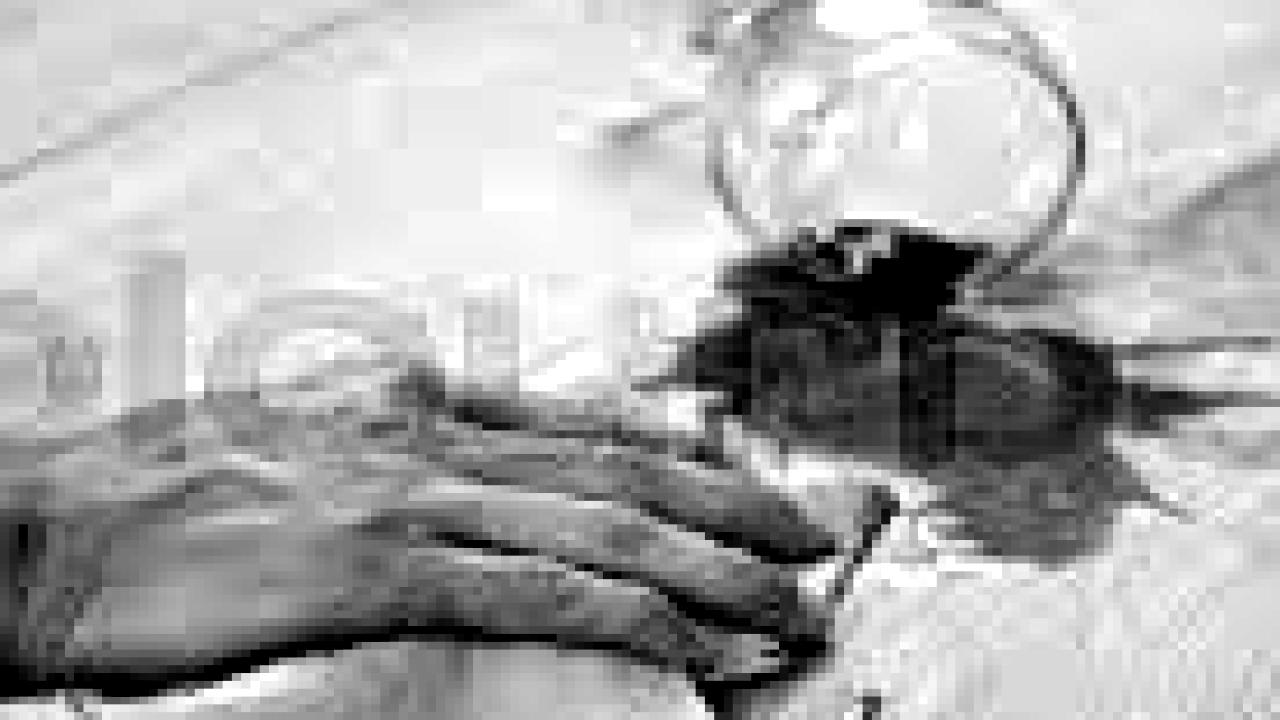drinks Stains: (788, 305, 1280, 556)
